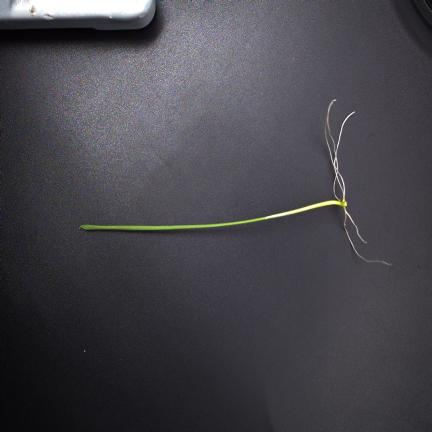leaf: (80, 217, 265, 232)
root1: (344, 208, 392, 265)
root2: (344, 211, 369, 244)
root3: (334, 110, 356, 199)
root4: (324, 115, 344, 198)
root5: (327, 99, 339, 201)
stem: (265, 200, 348, 220)
